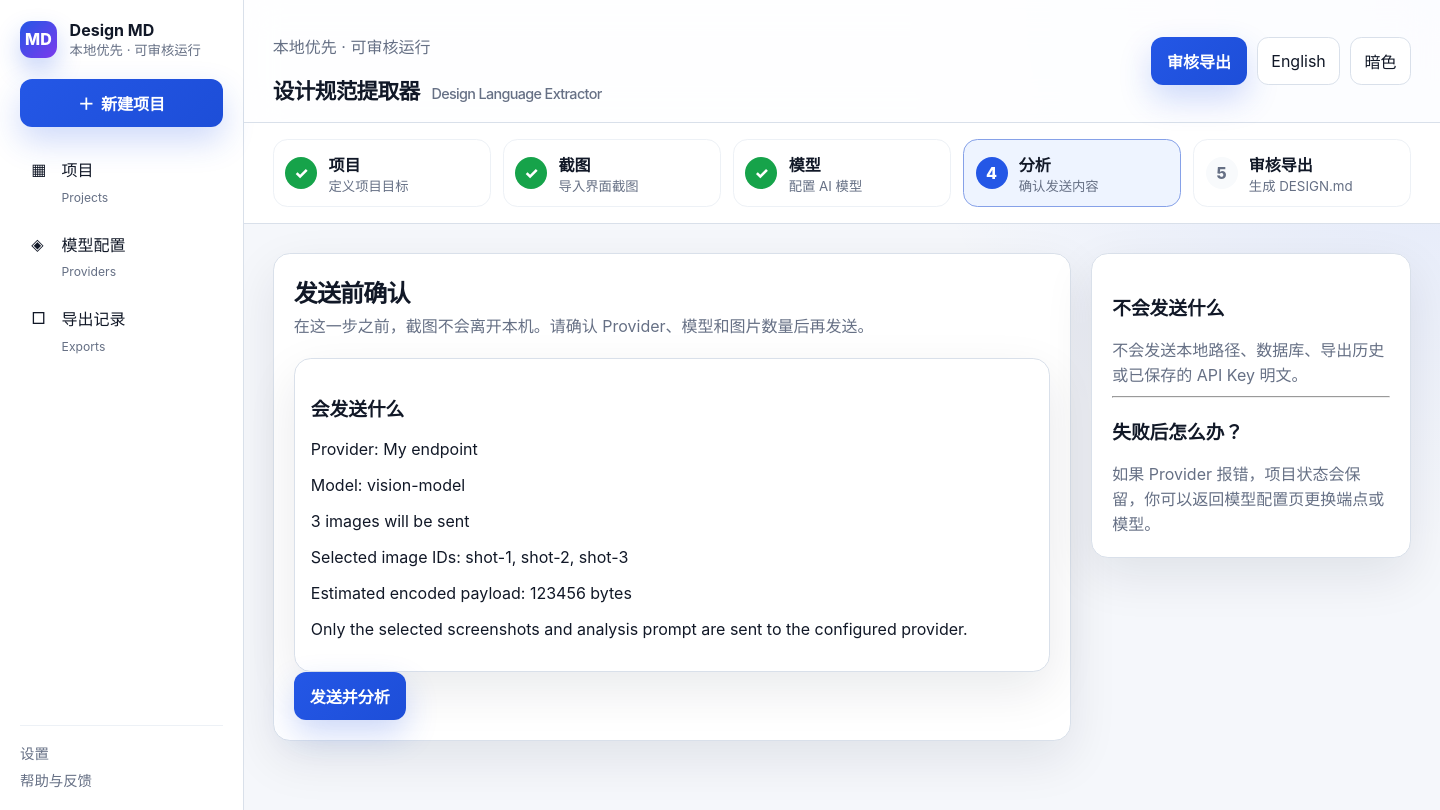
Scenario: AnalysisStartPage › sends the disclosed request and opens the workbench
The image size is (1440, 810).
Click the button with aria-label "Send and analyze" at (350, 696), box [294,672,406,720]
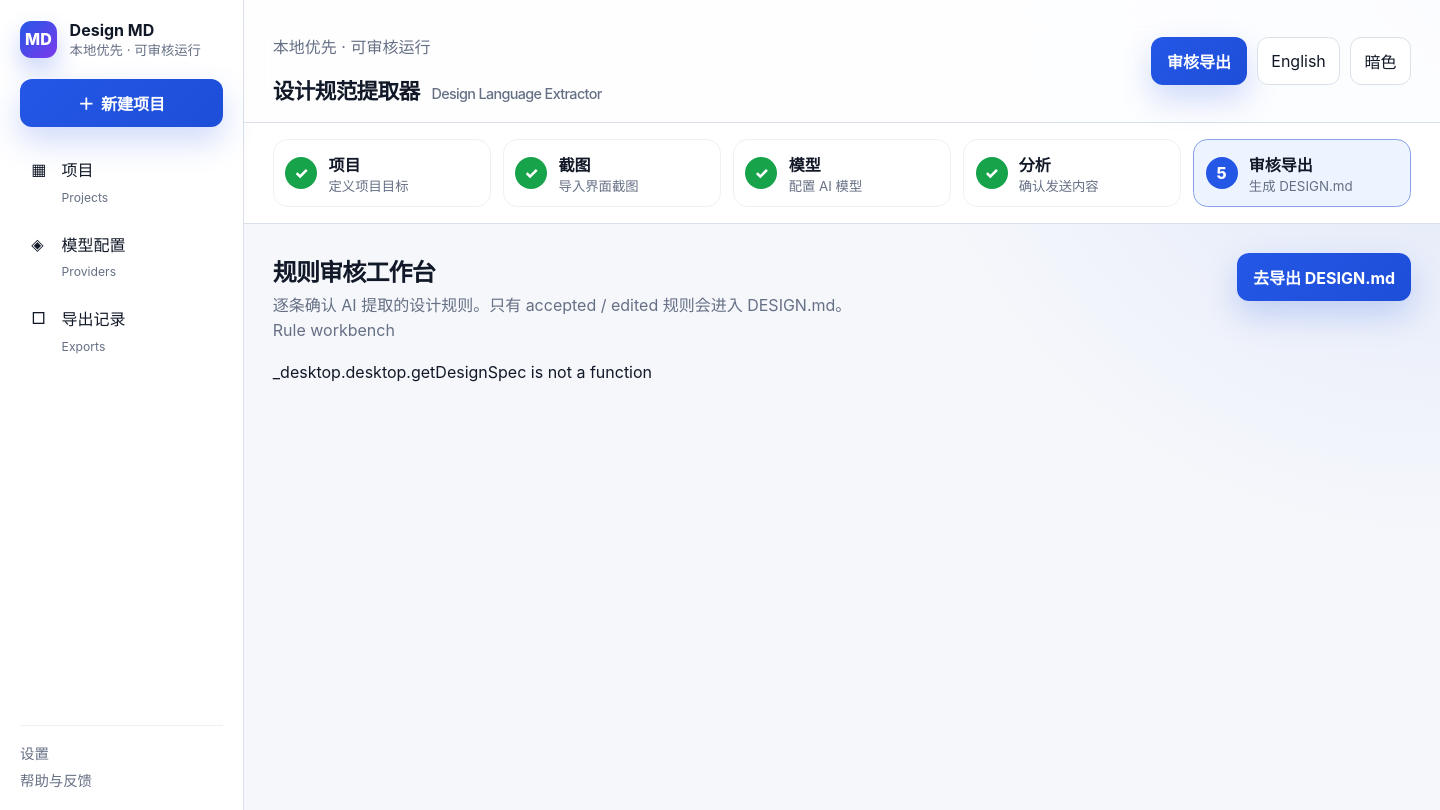
Expected: the text "Rule workbench" is shown, [273,320,395,340]
